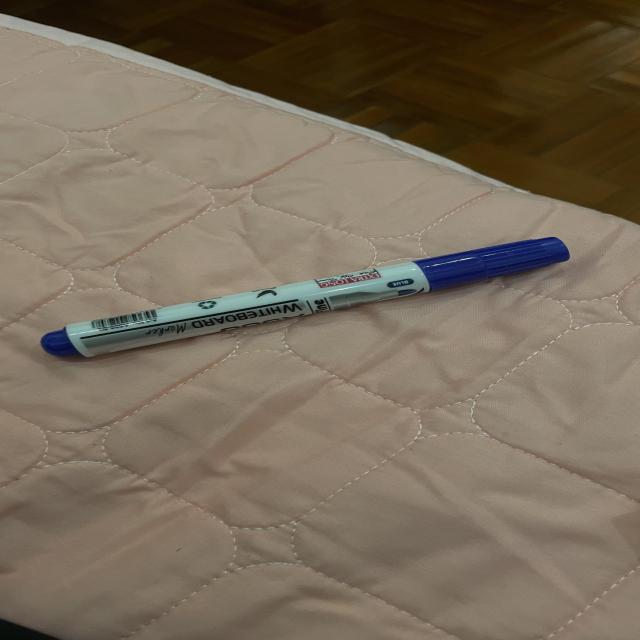marker: (41, 237, 570, 357)
